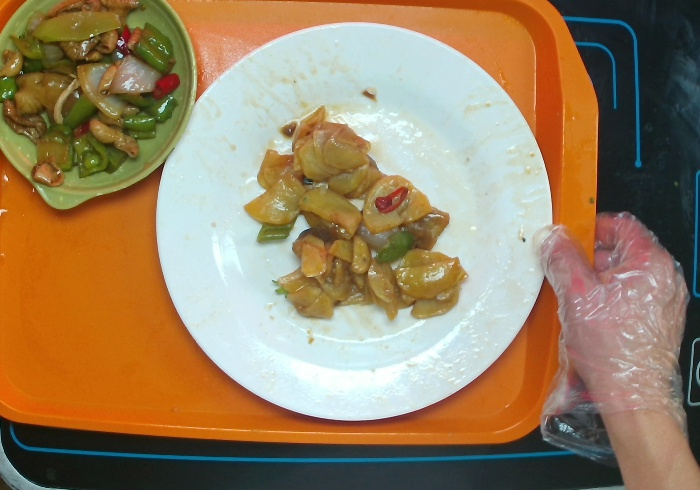NLDX-Da_Yuan_Pan: (147, 17, 556, 429)
NLDX-Lv_Hua_Shuang_Er_Die: (1, 1, 209, 210)
